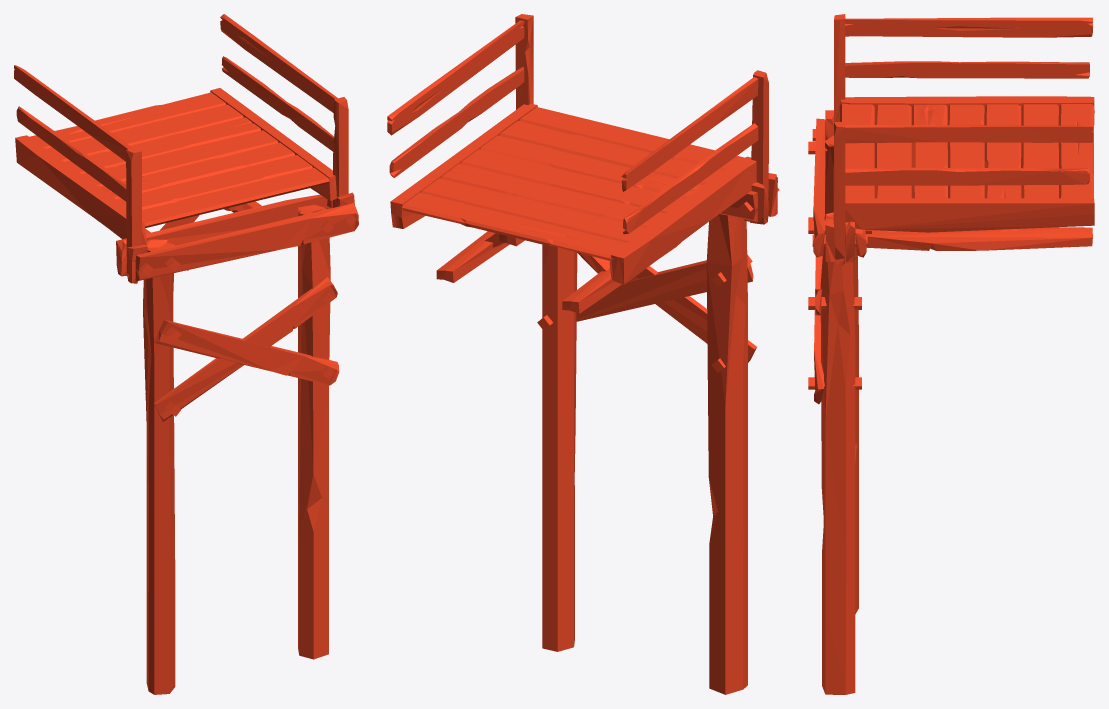
The model's file is SM_Pier_Short_Railing_A_City.fbx.
3 renders of one model, left to right at view 1: azimuth 30°, elevation 25°; view 2: azimuth 150°, elevation 25°; view 3: azimuth 270°, elevation 25°, orthographic. The views are drawn at different scales.
Visible parts, largest first — view 1: SM_Pier_Short_Railing_A_City; view 2: SM_Pier_Short_Railing_A_City; view 3: SM_Pier_Short_Railing_A_City.
Part boxes in pixels (x1,y1,x2,y2): SM_Pier_Short_Railing_A_City: [14, 14, 358, 694]; SM_Pier_Short_Railing_A_City: [387, 14, 779, 694]; SM_Pier_Short_Railing_A_City: [808, 14, 1094, 694].
Size of the model in its own units: 3.31 by 7.57 by 3.39.
